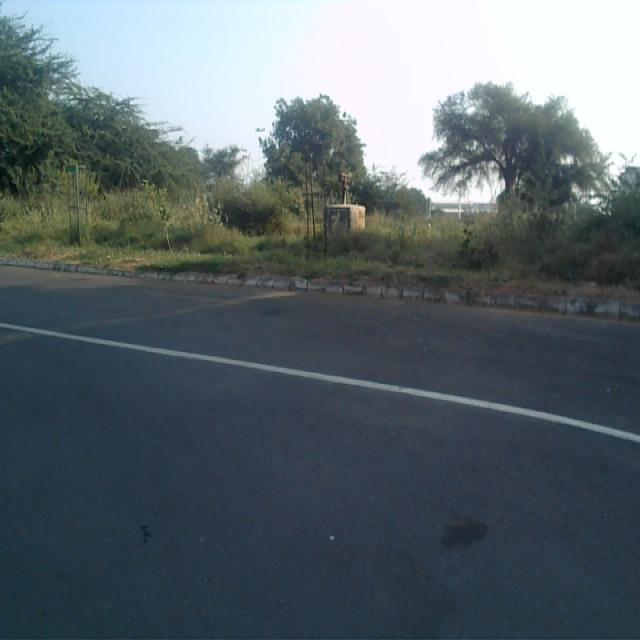lane: (0, 329, 640, 640)
